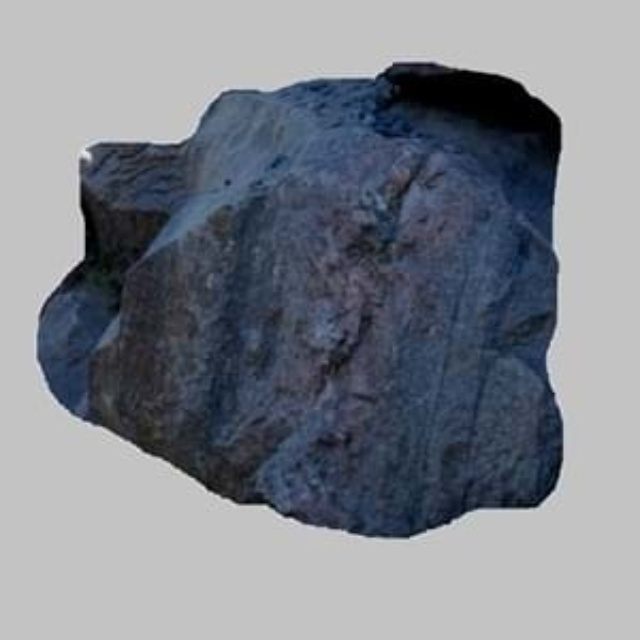obstacle: (38, 62, 559, 533)
